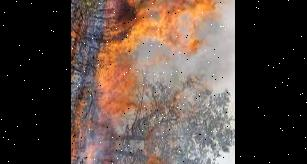fire: (101, 0, 221, 124), (96, 141, 170, 164)
